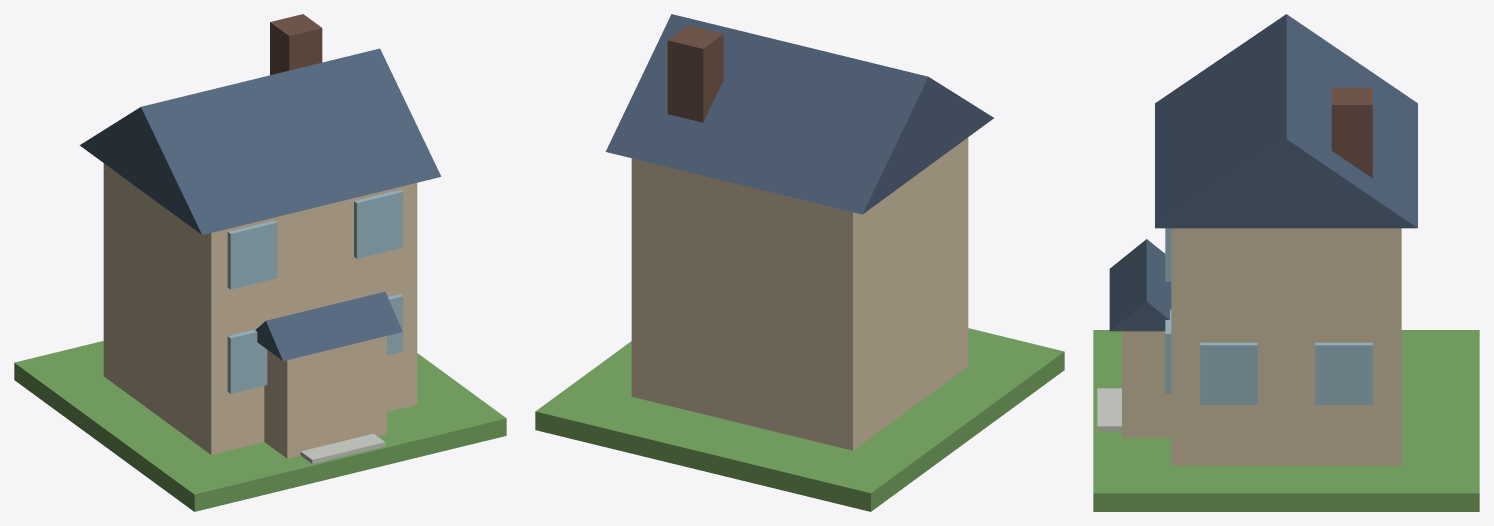
The model's file is house-2.glb.
The picture shows the model from 3 angles, left to right: view 1: azimuth 30°, elevation 25°; view 2: azimuth 150°, elevation 25°; view 3: azimuth 270°, elevation 25°; orthographic projection. The views are drawn at different scales.
Visible parts, largest first — view 1: house-2; view 2: house-2; view 3: house-2.
Boxes of the visible parts, x1,y1,x2,y2 form: house-2: (14, 14, 506, 511); house-2: (535, 14, 1064, 511); house-2: (1093, 14, 1479, 511).
Size of the model in its own units: 0.94 by 0.99 by 0.94.
